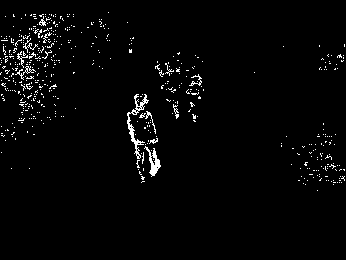person: (126, 92, 162, 180)
